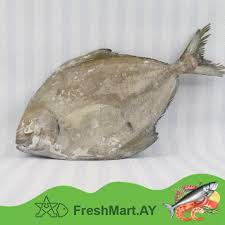Ikan Bawal: (8, 25, 224, 161)
